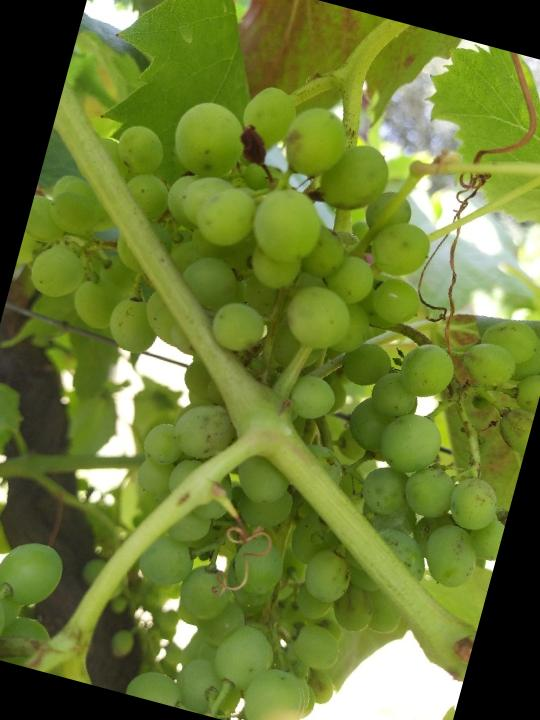grape: (0, 39, 540, 720)
